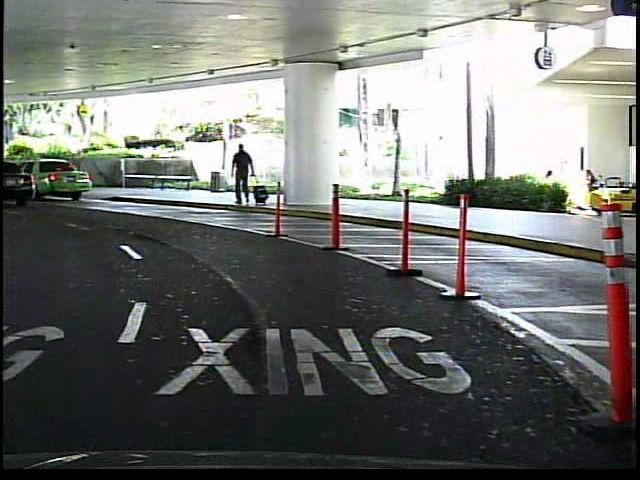person: (230, 140, 261, 211)
